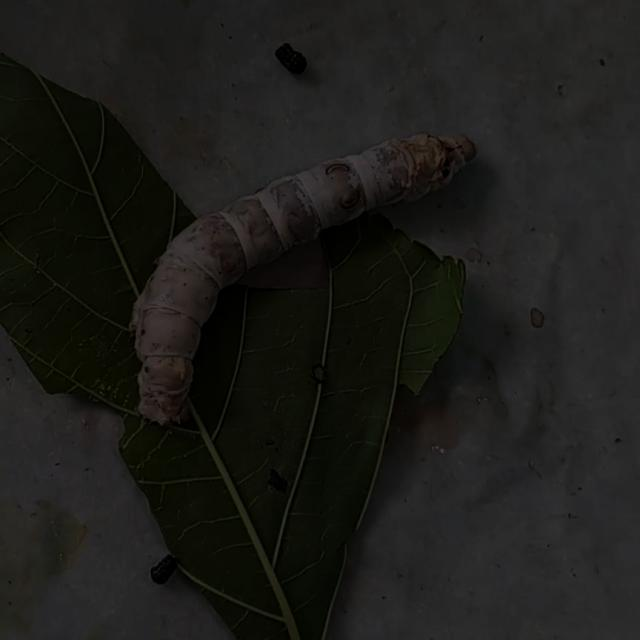Grasserie: (120, 111, 495, 432)
